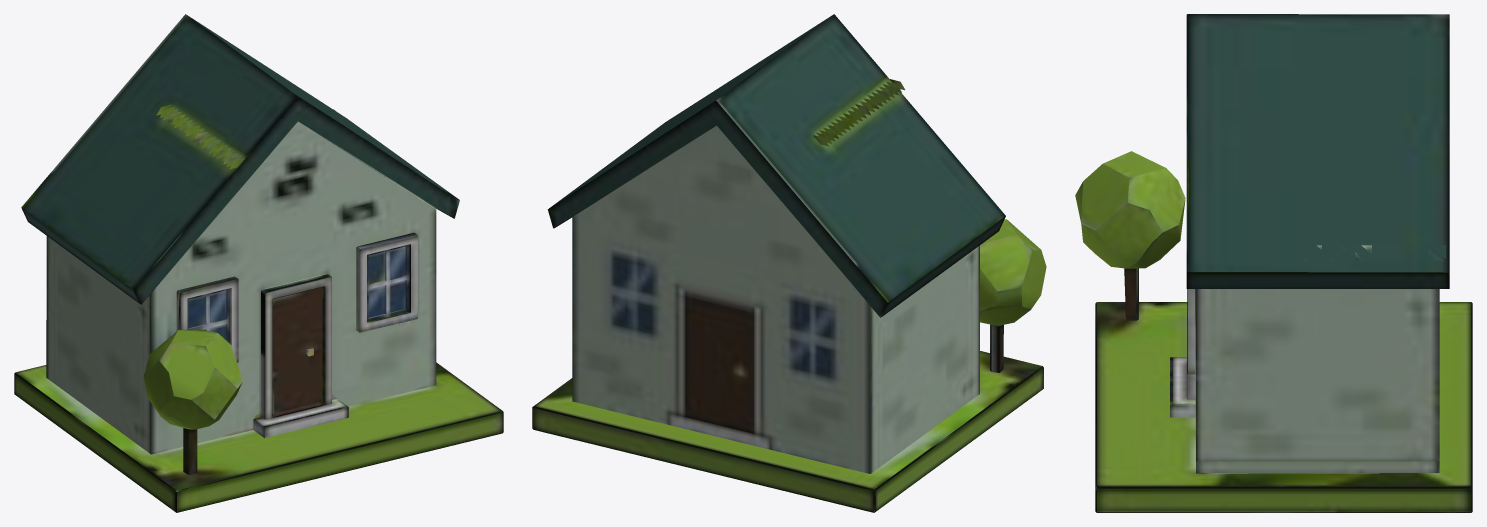
Rendered from rumah_1_lod2.glb.
3 renders of one model, left to right at view 1: azimuth 30°, elevation 25°; view 2: azimuth 150°, elevation 25°; view 3: azimuth 270°, elevation 25°, orthographic. The views are drawn at different scales.
Visible parts, largest first — view 1: tripo_node_6382f977; view 2: tripo_node_6382f977; view 3: tripo_node_6382f977.
Part boxes in pixels (left/top/right/bottom): tripo_node_6382f977: left=14, top=14, right=503, bottom=512; tripo_node_6382f977: left=532, top=14, right=1046, bottom=512; tripo_node_6382f977: left=1075, top=14, right=1472, bottom=512.
Bounding box in the file's own units: 0.9887 × 0.9856 × 0.8772.
1 material, 1 textured.
